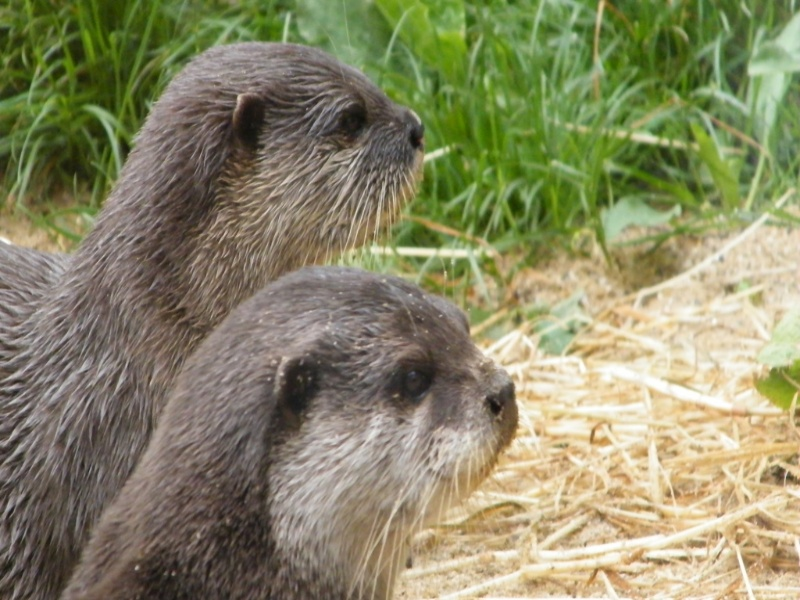minkish: (1, 33, 433, 584), (81, 268, 531, 594)
